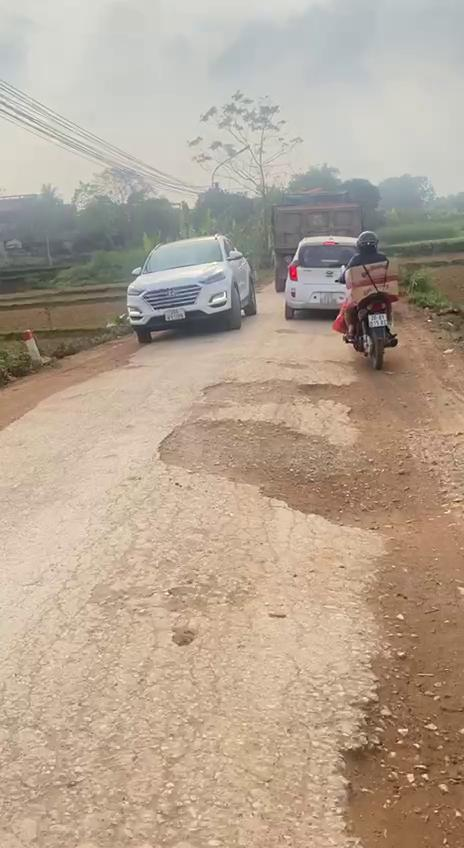pothole: (318, 642, 464, 848), (157, 414, 389, 540), (196, 374, 362, 418)
